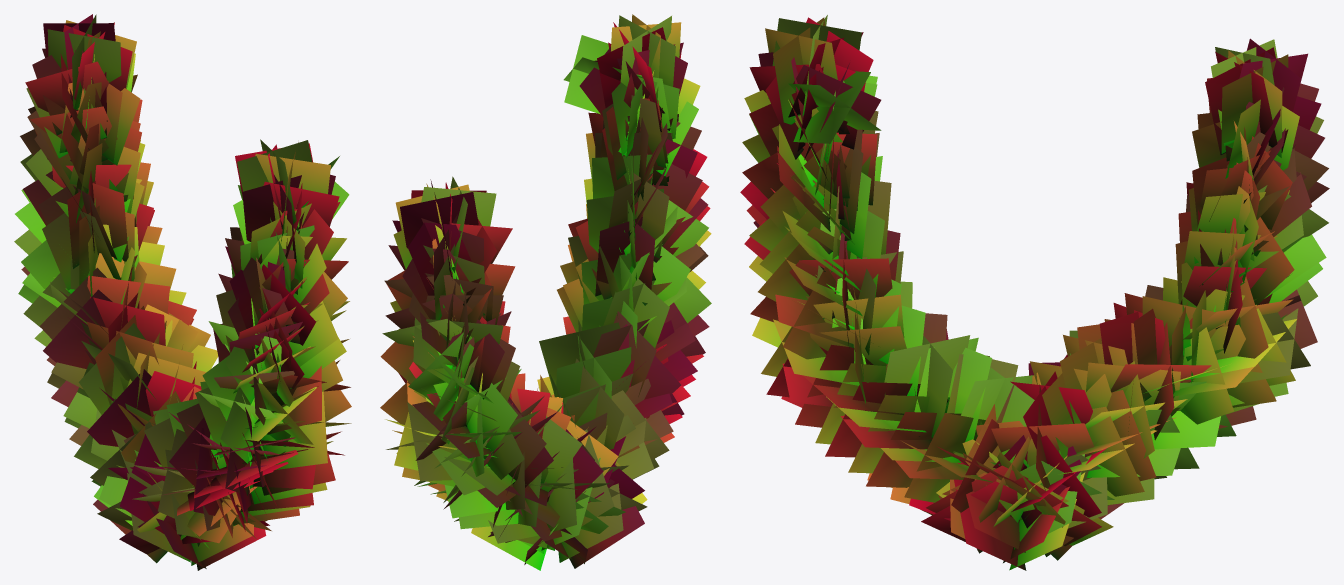
Rendered from URP_P4_Tree_13_LOD_1.fbx.
3 views of the same model, side by side, from view 1: azimuth 30°, elevation 25°; view 2: azimuth 150°, elevation 25°; view 3: azimuth 270°, elevation 25° (orthographic). The views are drawn at different scales.
Visible parts, largest first — view 1: Tree_13_LOD_1; view 2: Tree_13_LOD_1; view 3: Tree_13_LOD_1.
Part boxes in pixels (x1,y1,x2,y2): Tree_13_LOD_1: (14,14,351,570); Tree_13_LOD_1: (380,14,711,570); Tree_13_LOD_1: (740,15,1329,570).
Size of the model in its own units: 211 by 588 by 591.
